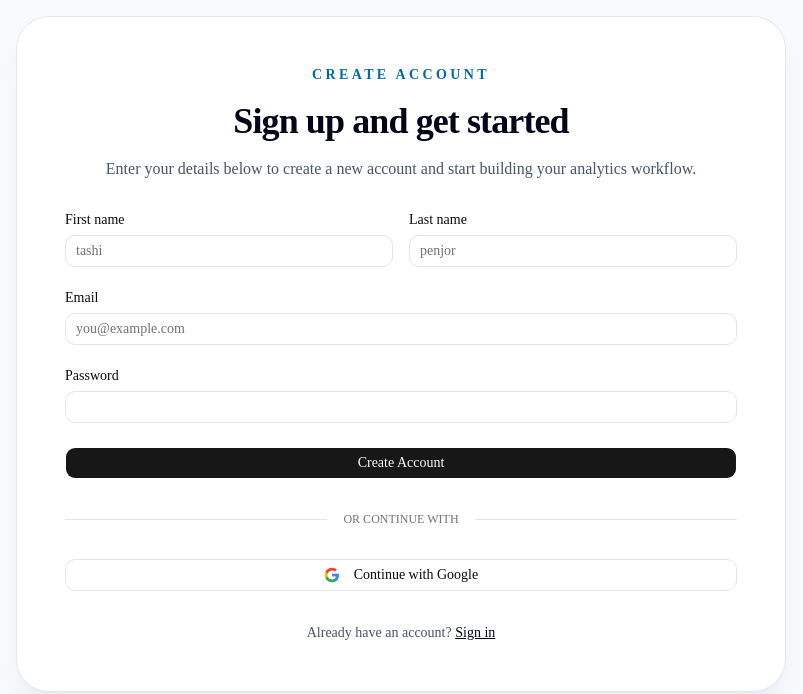
Scenario: SignupPage › submits the signup form and shows success message
The width and height of the screenshot is (803, 694).
Type "Tashi" into the field with id "firstName".
click(229, 251); type("Tashi")  # box [65,235,393,267]
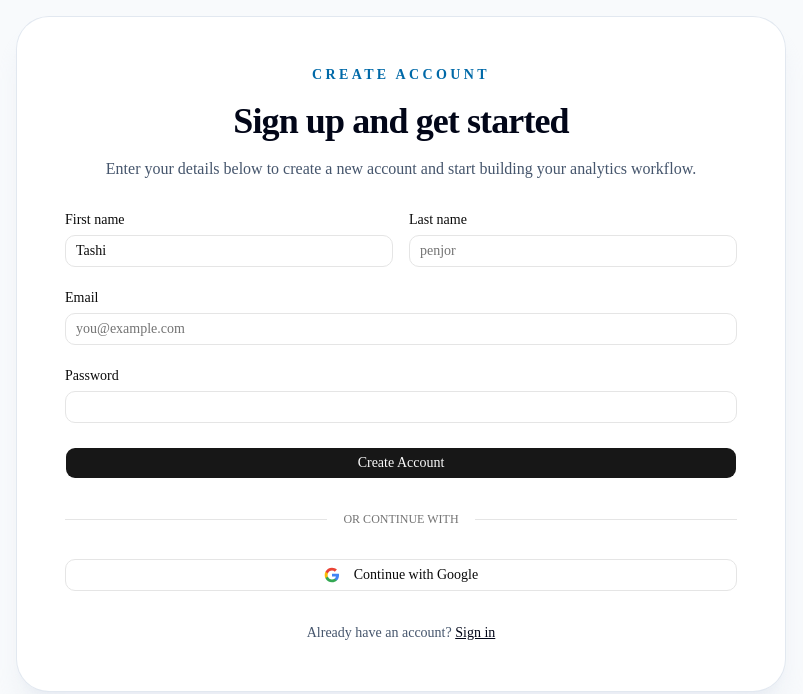
Type "Penjor" into the field with id "lastName".
click(573, 251); type("Penjor")  # box [409,235,737,267]
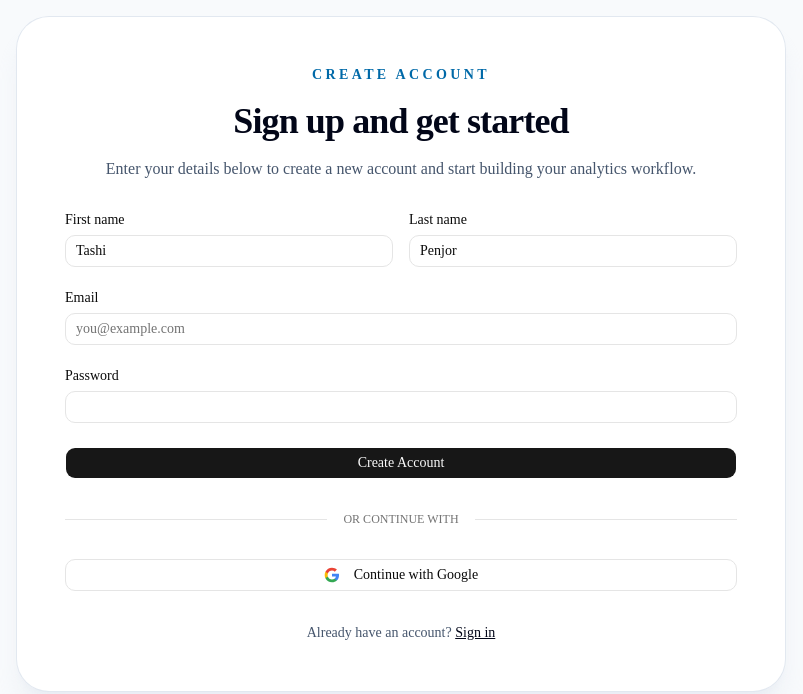
Type "tashi@example.com" into the field with id "email".
click(401, 329); type("tashi@example.com")  # box [65,313,737,345]
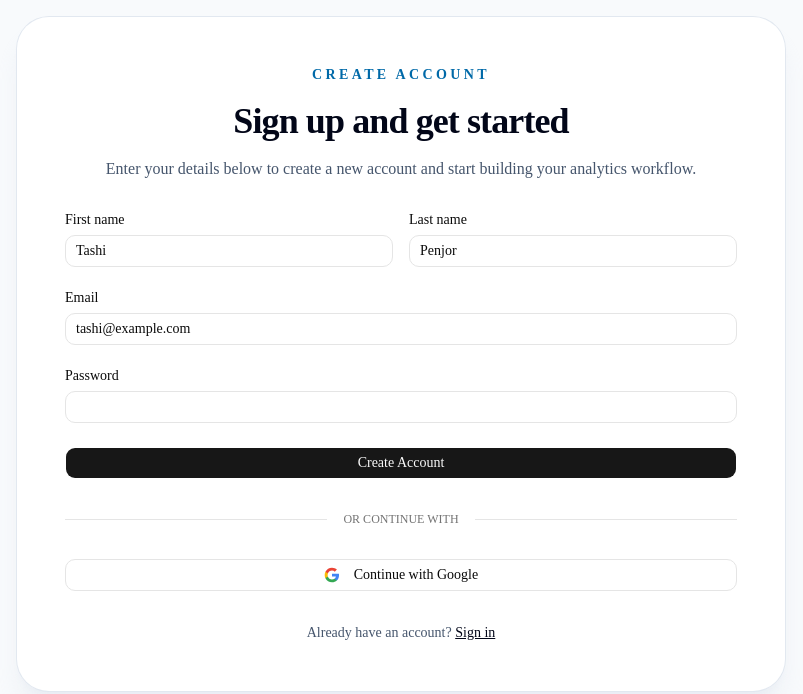
Type "secret" into the password field labelled "Password".
click(401, 407); type("secret")  # box [65,391,737,423]
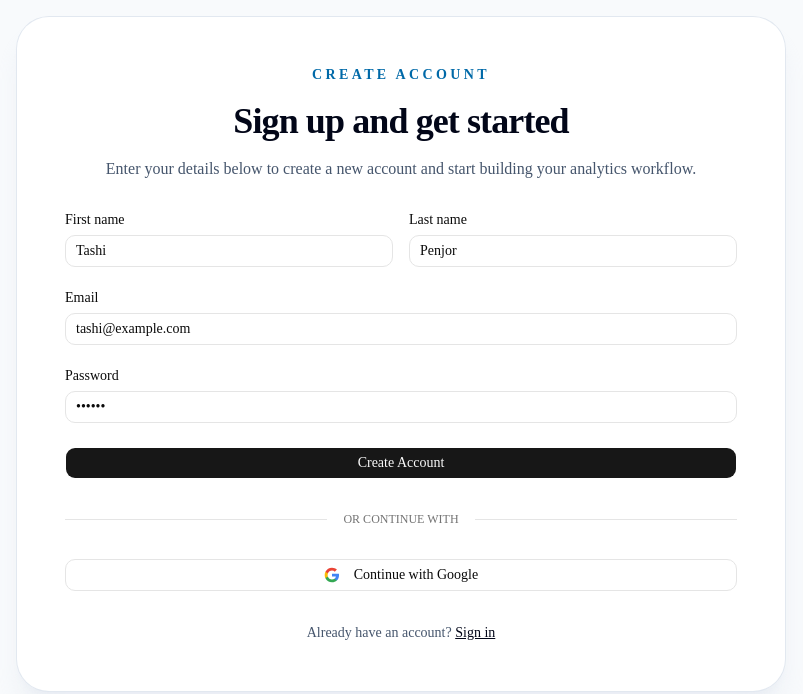
Submit the form, box [65,213,737,479]
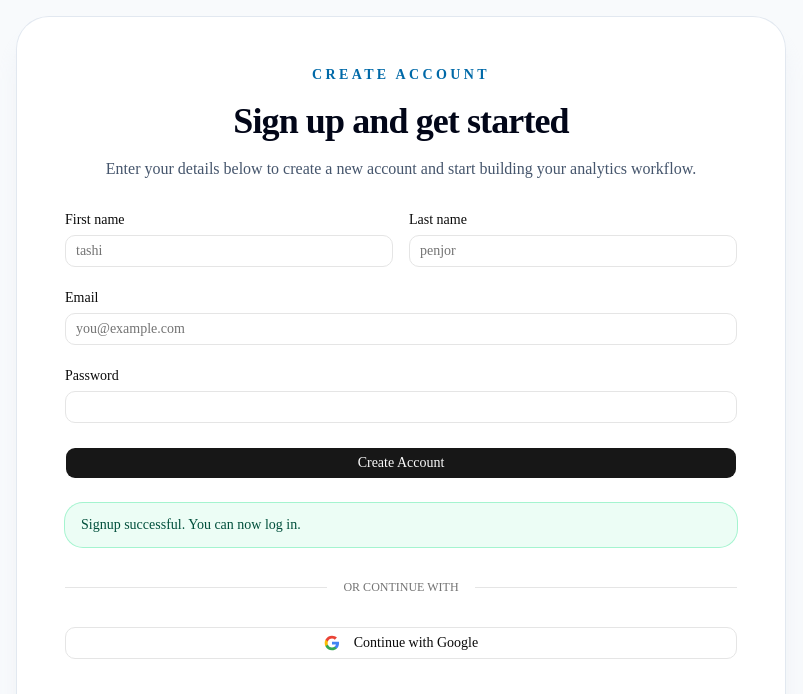
Expected: the text "Signup successful. You can now log in." is shown, [65,503,737,547]
